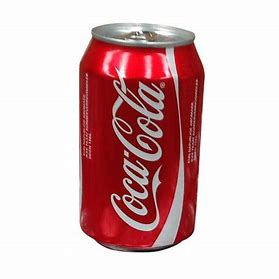Coke: (77, 18, 205, 253)
